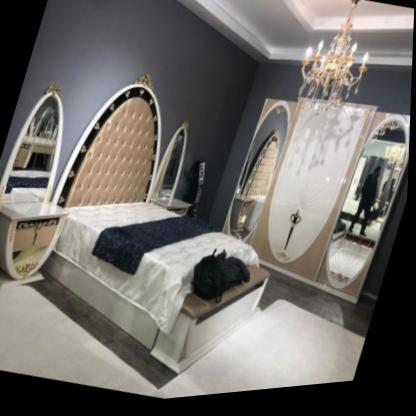Closet: (223, 104, 411, 312)
